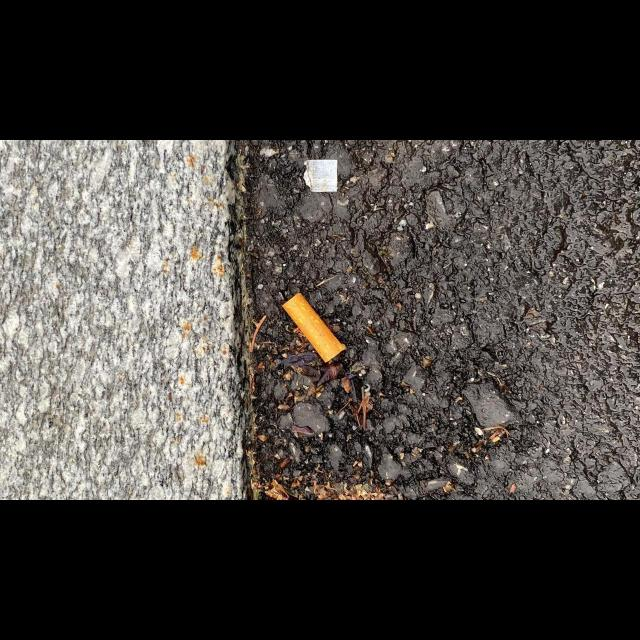cigarette: (282, 291, 347, 363)
